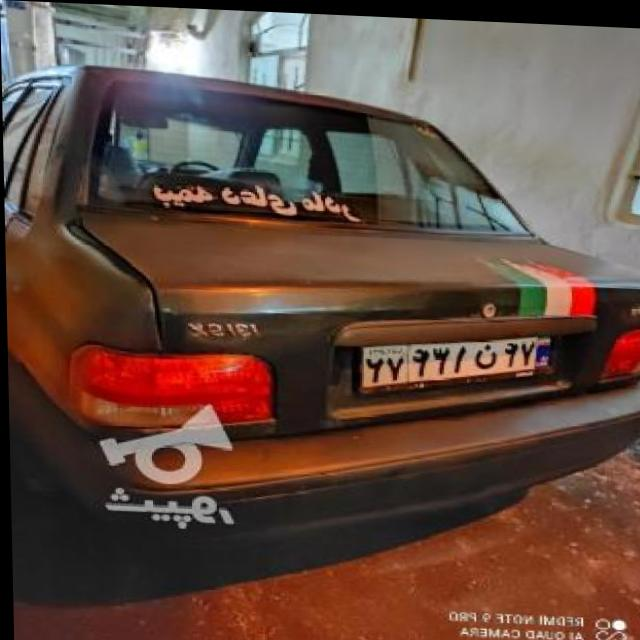licence: (349, 316, 562, 395)
